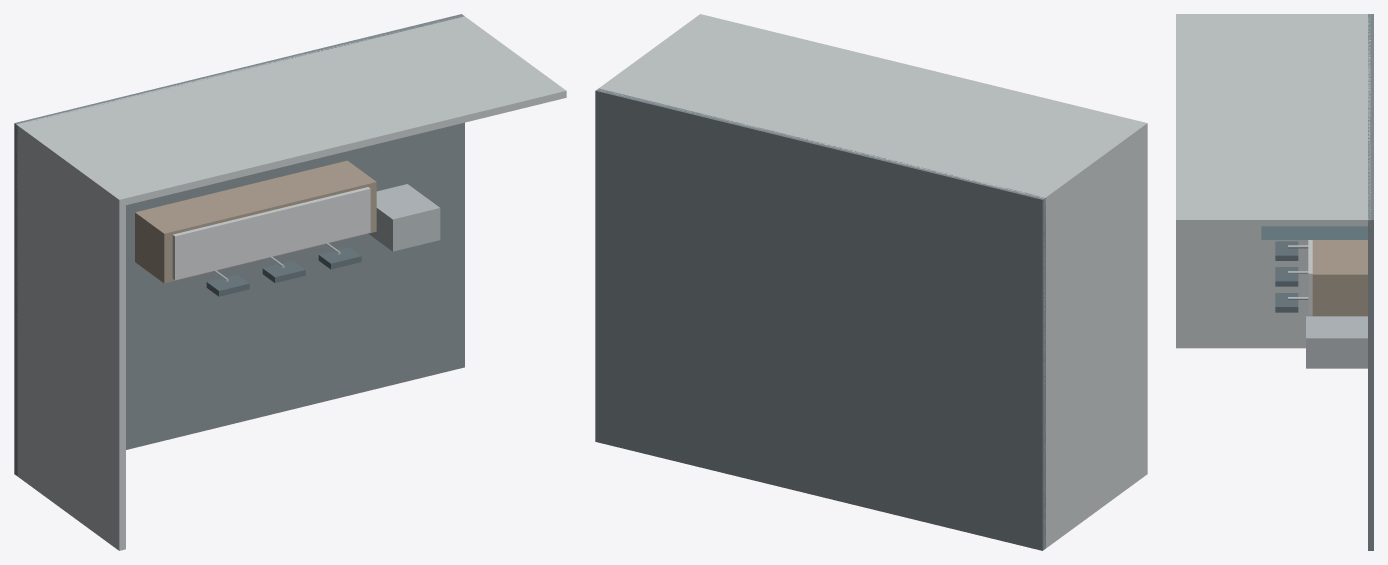
The model's file is nursing-station-low.glb.
3 renders of one model, left to right at view 1: azimuth 30°, elevation 25°; view 2: azimuth 150°, elevation 25°; view 3: azimuth 270°, elevation 25°, orthographic. The views are drawn at different scales.
Parts seen in each view (by area): view 1: floor, wall_back, wall_left, desk_top, central_desk, medication_trolley; view 2: floor, wall_back, wall_left; view 3: wall_back, wall_left, central_desk, medication_trolley, floor, storage_right, monitor_0, monitor_20, monitor_10, desk_top.
Part boxes in pixels (x1,y1,x2,y2): floor: (14,14,464,476); wall_back: (16,16,566,206); wall_left: (16,122,125,550); desk_top: (172,187,370,280); central_desk: (135,160,376,283); medication_trolley: (368,184,440,251); floor: (595,88,1045,550); wall_back: (598,14,1147,204); wall_left: (1040,122,1147,548); wall_back: (1176,14,1370,226); wall_left: (1176,14,1365,348); central_desk: (1312,240,1367,316); medication_trolley: (1306,316,1367,368); floor: (1368,14,1373,550); storage_right: (1261,226,1367,239); monitor_0: (1275,241,1298,260); monitor_20: (1275,293,1298,312); monitor_10: (1275,267,1298,286); desk_top: (1308,240,1312,314).
Size of the model in its own units: 8 by 6 by 3.25.
